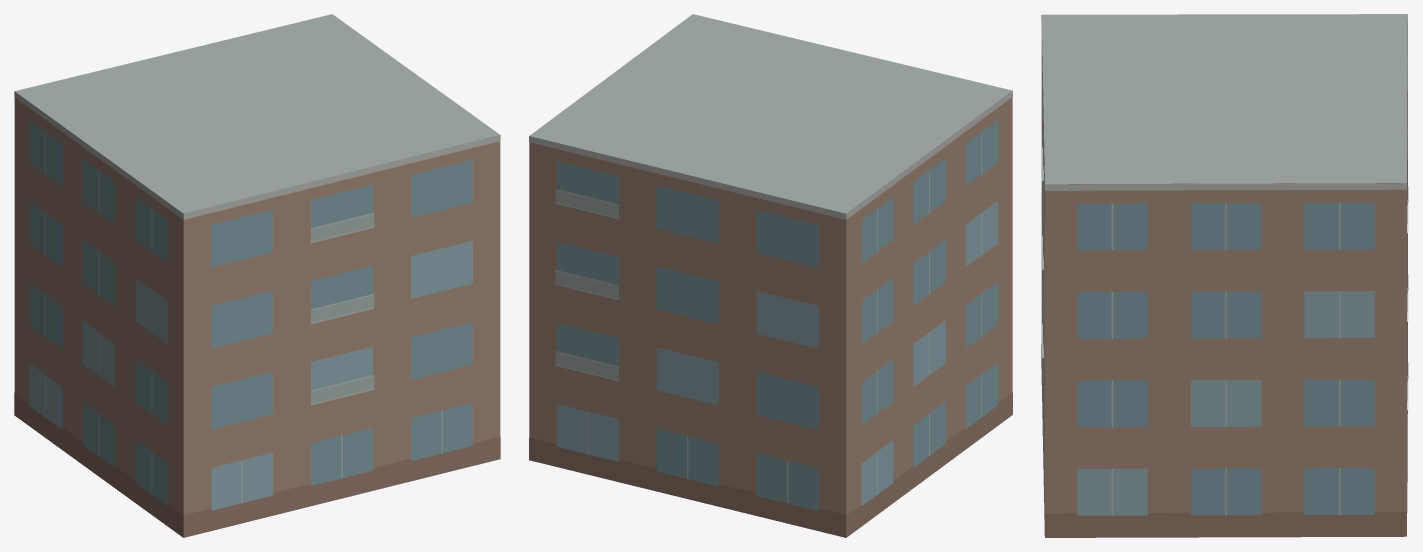
The model's file is survey-upis-32549985.glb.
3 views of the same model, side by side, from view 1: azimuth 30°, elevation 25°; view 2: azimuth 150°, elevation 25°; view 3: azimuth 270°, elevation 25° (orthographic). The views are drawn at different scales.
Visible parts, largest first — view 1: survey-upis-32549985.tmp; view 2: survey-upis-32549985.tmp; view 3: survey-upis-32549985.tmp.
Part boxes in pixels (x1,y1,x2,y2): survey-upis-32549985.tmp: [14, 14, 500, 537]; survey-upis-32549985.tmp: [529, 14, 1012, 537]; survey-upis-32549985.tmp: [1041, 14, 1408, 537].
Bounding box in the file's own units: 13.22 × 12.8 × 12.04.
